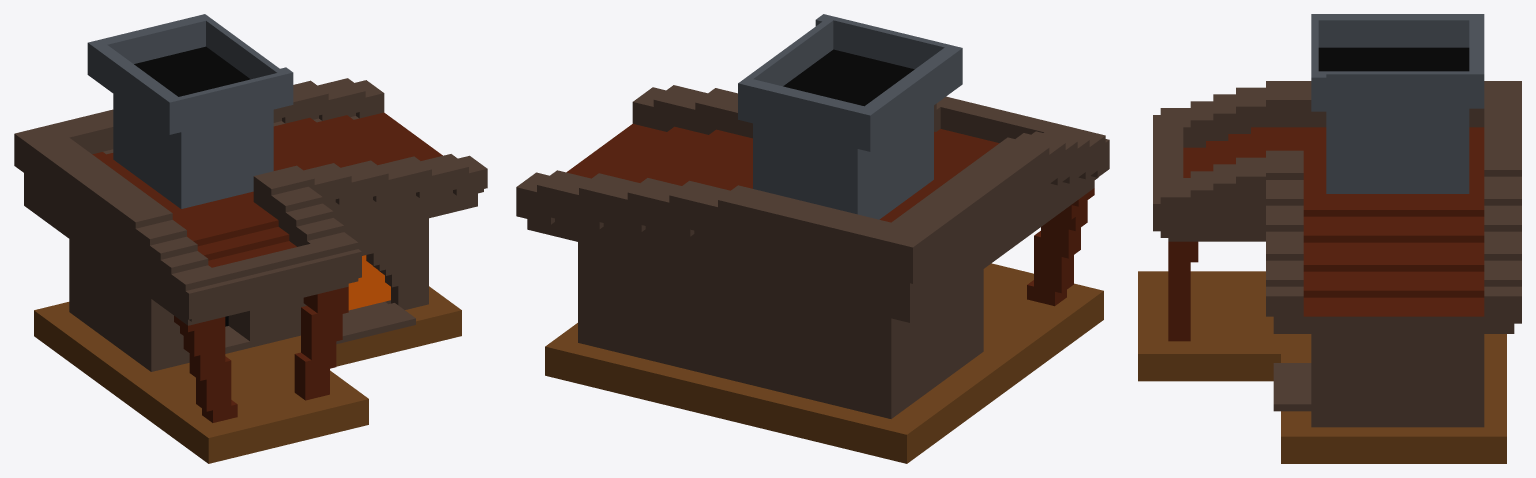
File: Мастерская.fbx
The picture shows the model from 3 angles, left to right: view 1: azimuth 30°, elevation 25°; view 2: azimuth 150°, elevation 25°; view 3: azimuth 270°, elevation 25°; orthographic projection. The views are drawn at different scales.
Visible parts, largest first — view 1: Cube; view 2: Cube; view 3: Cube.
Boxes of the visible parts, <box> form: Cube: <box>14,14,487,463</box>; Cube: <box>516,14,1109,463</box>; Cube: <box>1138,14,1521,463</box>.
Size of the model in its own units: 492 by 388 by 440.
